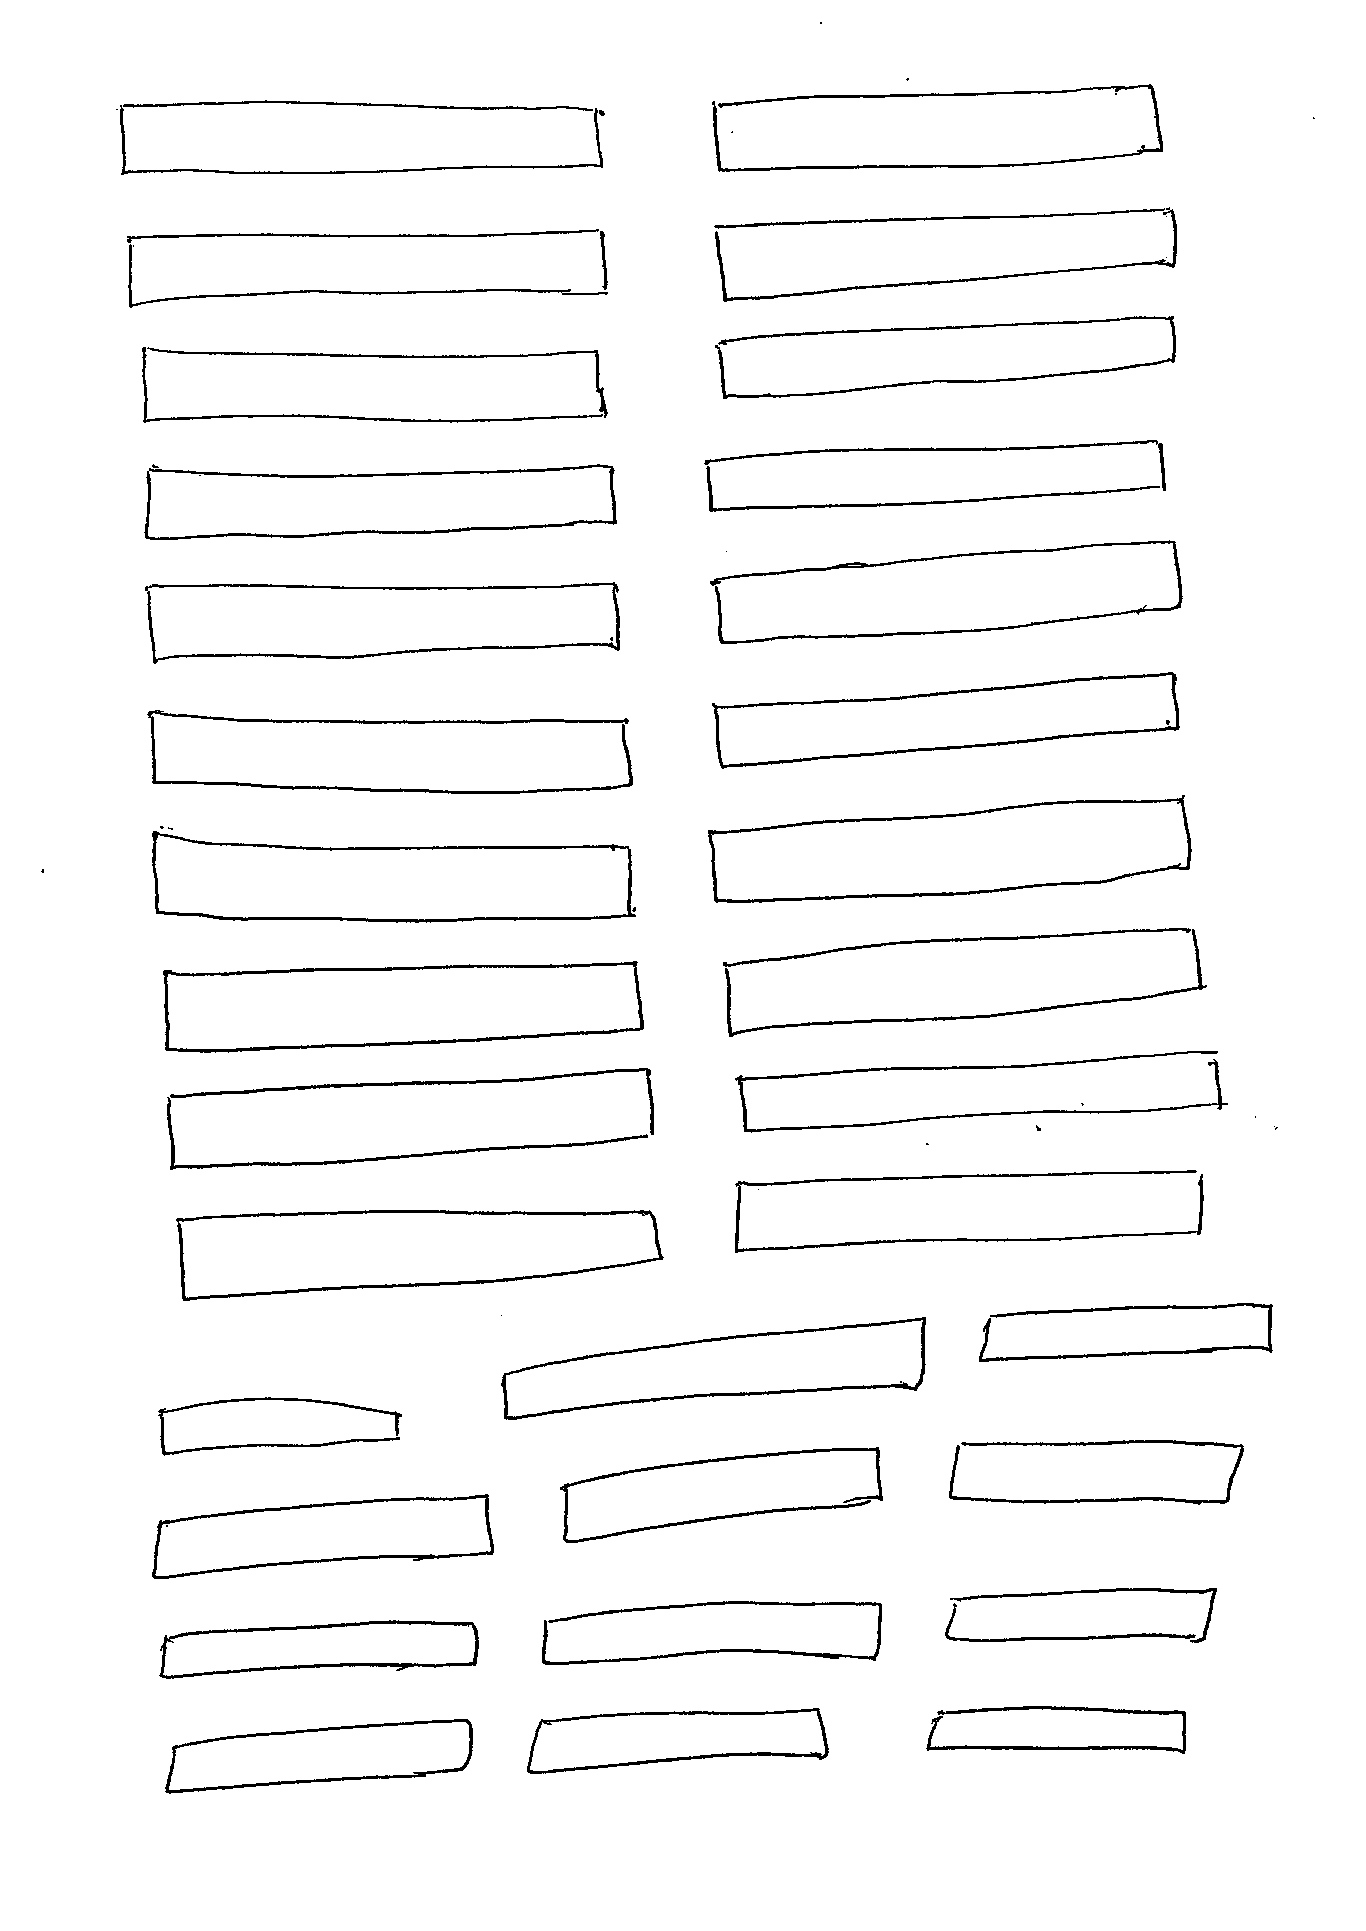Textbox: (723, 927, 1203, 1039), (164, 1065, 656, 1172), (707, 797, 1193, 903), (707, 538, 1183, 645), (710, 670, 1181, 770), (174, 1208, 667, 1304), (149, 828, 633, 926), (161, 960, 645, 1056), (500, 1314, 928, 1422), (713, 206, 1177, 303), (733, 1047, 1224, 1134), (146, 708, 634, 795), (730, 1167, 1206, 1255), (714, 313, 1178, 401), (143, 580, 622, 664), (713, 84, 1165, 173), (126, 226, 608, 309), (143, 461, 618, 543), (118, 99, 608, 177), (140, 343, 606, 423), (704, 438, 1166, 513), (560, 1448, 883, 1547), (149, 1492, 495, 1581), (163, 1718, 476, 1796), (540, 1598, 886, 1669), (525, 1708, 832, 1777), (157, 1618, 480, 1683), (946, 1439, 1245, 1505), (979, 1303, 1274, 1362), (943, 1585, 1220, 1646), (157, 1396, 402, 1456), (924, 1705, 1190, 1754)
